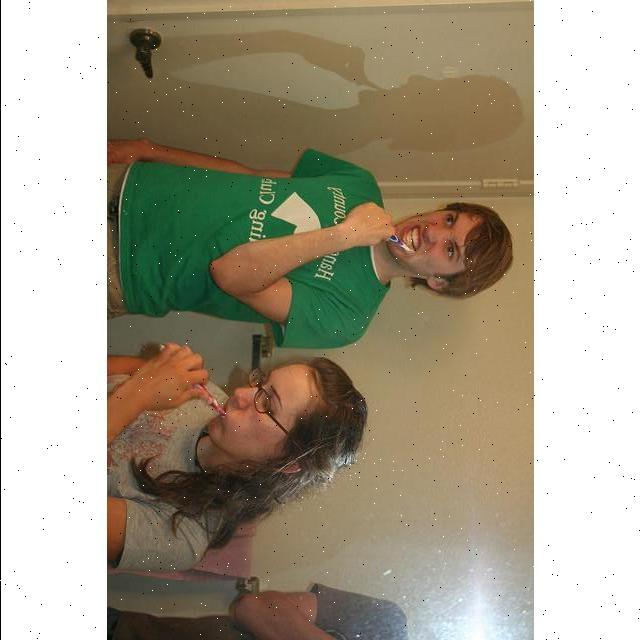toothbrush: (193, 384, 225, 416), (390, 233, 414, 251)
